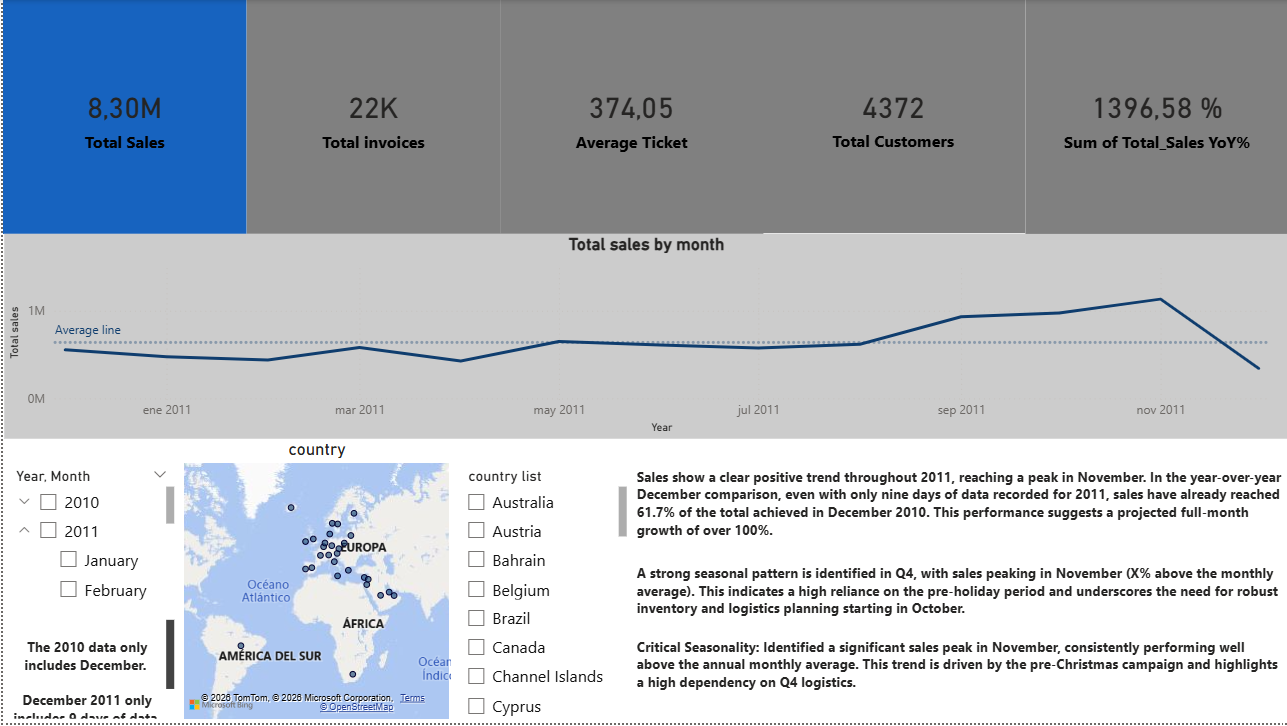

Layout of this report page (visuals, bound fields, positions):
{"tool":"powerbi","page":{"name":"Executive Summary","canvas":[1280,720],"ordinal":0},"visuals":[{"type":"card","fields":{"Values":["public vw_online_retail_final.TotalSales"]},"box":[0,0,242.6,232.6],"z":0},{"type":"slicer","fields":{"Values":["public vw_online_retail_final.invoice_timestamp.Variation.Date Hierarchy.Year","public vw_online_retail_final.invoice_timestamp.Variation.Date Hierarchy.Month"]},"box":[0,460.3,175.4,151.8],"z":1000},{"type":"card","fields":{"Values":["public vw_online_retail_final.Count_total_invoices"]},"box":[242.6,0,252.5,232.6],"z":2000},{"type":"card","fields":{"Values":["public vw_online_retail_final.Average Ticket"]},"box":[495.1,0,261.2,232.6],"z":3000},{"type":"card","fields":{"Values":["public vw_online_retail_final.Total Customers"]},"box":[755.5,0,262.3,232.3],"z":4000},{"type":"map","fields":{"Category":["public vw_online_retail_final.country"]},"box":[175.6,436.4,274.4,284],"z":5000},{"type":"lineChart","title":"Total sales by month","fields":{"Y":["public vw_online_retail_final.Total_sales_measure"],"Category":["public vw_online_retail_final.invoice_timestamp.Variation.Date Hierarchy.Year","public vw_online_retail_final.invoice_timestamp.Variation.Date Hierarchy.Month"]},"box":[1.4,232.3,1278.6,203.8],"z":6000},{"type":"slicer","fields":{"Values":["public vw_online_retail_final.country"]},"box":[450.1,459.7,175.6,260.7],"z":7000},{"type":"textbox","box":[0,612,175.4,108.2],"z":8000},{"type":"card","fields":{"Values":["public vw_online_retail_final.Sum of Total_Sales YoY%"]},"box":[1017.6,0,262.5,232.6],"z":9000},{"type":"textbox","box":[625.7,460.3,654.3,95.8],"z":10000},{"type":"textbox","box":[625.7,556,654.3,73.4],"z":11000}]}

Visuals, with their boxes in screenshot pixels (x1, y1, x2, y2), scaled from the page's 1280x720 canvas onto the 1287x726 screenshot:
card - public vw_online_retail_final.TotalSales: {"left": 0, "top": 0, "right": 244, "bottom": 235}
slicer - public vw_online_retail_final.invoice_timestamp.Variation.Date Hierarchy.Year x public vw_online_retail_final.invoice_timestamp.Variation.Date Hierarchy.Month: {"left": 0, "top": 464, "right": 176, "bottom": 617}
card - public vw_online_retail_final.Count_total_invoices: {"left": 244, "top": 0, "right": 498, "bottom": 235}
card - public vw_online_retail_final.Average Ticket: {"left": 498, "top": 0, "right": 760, "bottom": 235}
card - public vw_online_retail_final.Total Customers: {"left": 760, "top": 0, "right": 1023, "bottom": 234}
map - public vw_online_retail_final.country: {"left": 177, "top": 440, "right": 452, "bottom": 725}
"Total sales by month" lineChart: {"left": 1, "top": 234, "right": 1286, "bottom": 440}
slicer - public vw_online_retail_final.country: {"left": 453, "top": 464, "right": 629, "bottom": 725}
textbox: {"left": 0, "top": 617, "right": 176, "bottom": 725}
card - public vw_online_retail_final.Sum of Total_Sales YoY%: {"left": 1023, "top": 0, "right": 1286, "bottom": 235}
textbox: {"left": 629, "top": 464, "right": 1286, "bottom": 561}
textbox: {"left": 629, "top": 561, "right": 1286, "bottom": 635}
